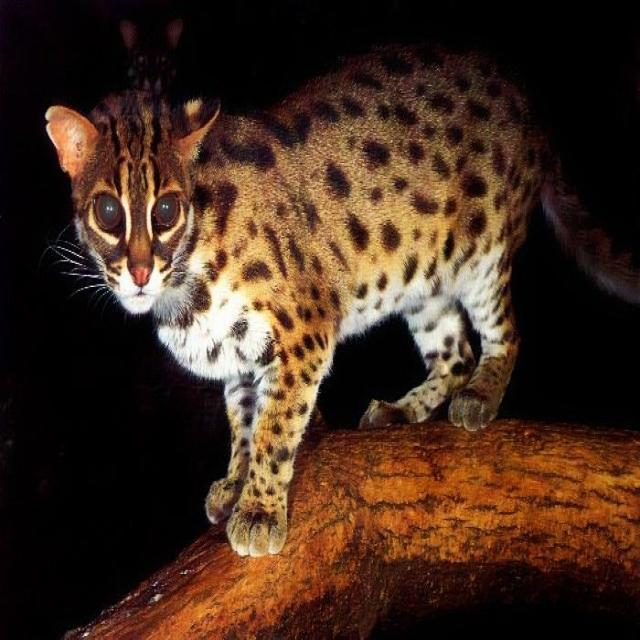Bengal: (44, 88, 220, 313)
